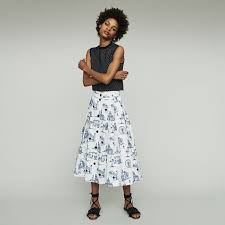C_skirt: (61, 83, 146, 192)
C_tank top: (83, 46, 126, 92)
